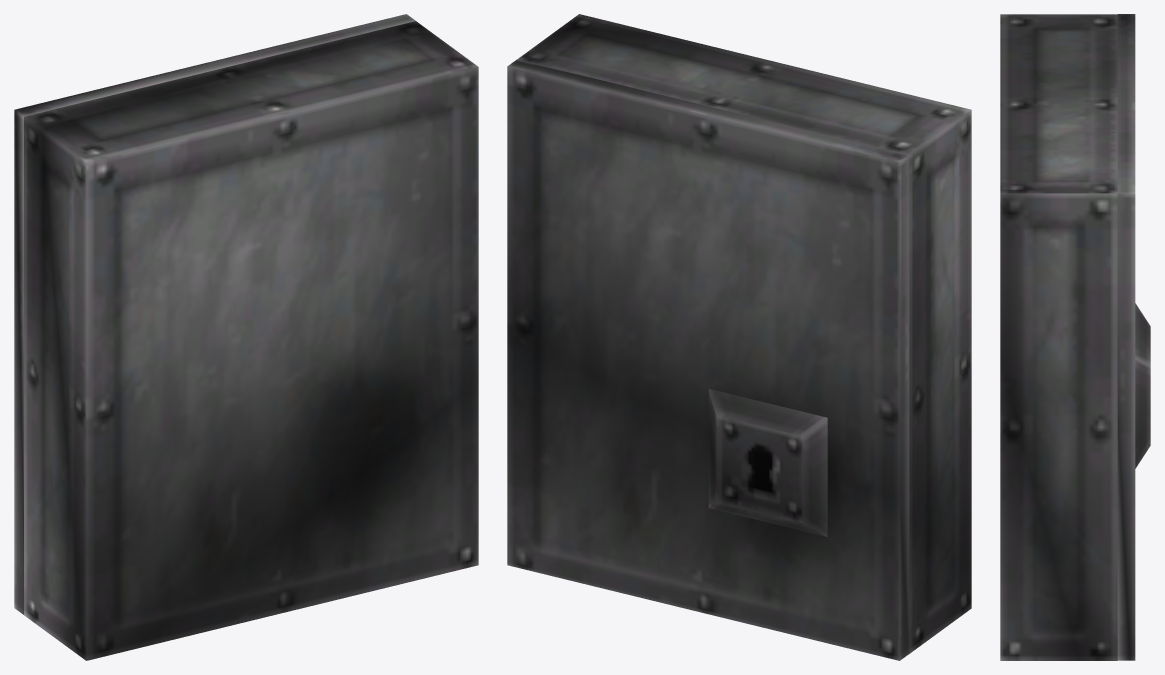
Rendered from INST_SWORDLIGHT_LOCKBOX_ANI1.fbx.
3 views of the same model, side by side, from view 1: azimuth 30°, elevation 25°; view 2: azimuth 150°, elevation 25°; view 3: azimuth 270°, elevation 25° (orthographic). The views are drawn at different scales.
Parts seen in each view (by area): view 1: INST_SWORDLIGHT_LOCKBOX_ANI1; view 2: INST_SWORDLIGHT_LOCKBOX_ANI1; view 3: INST_SWORDLIGHT_LOCKBOX_ANI1.
Part boxes in pixels (x1,y1,x2,y2): INST_SWORDLIGHT_LOCKBOX_ANI1: [14, 14, 478, 660]; INST_SWORDLIGHT_LOCKBOX_ANI1: [507, 14, 971, 660]; INST_SWORDLIGHT_LOCKBOX_ANI1: [1000, 14, 1150, 660].
Size of the model in its own units: 7001 by 8503 by 2476.
3 materials, 3 textured.
